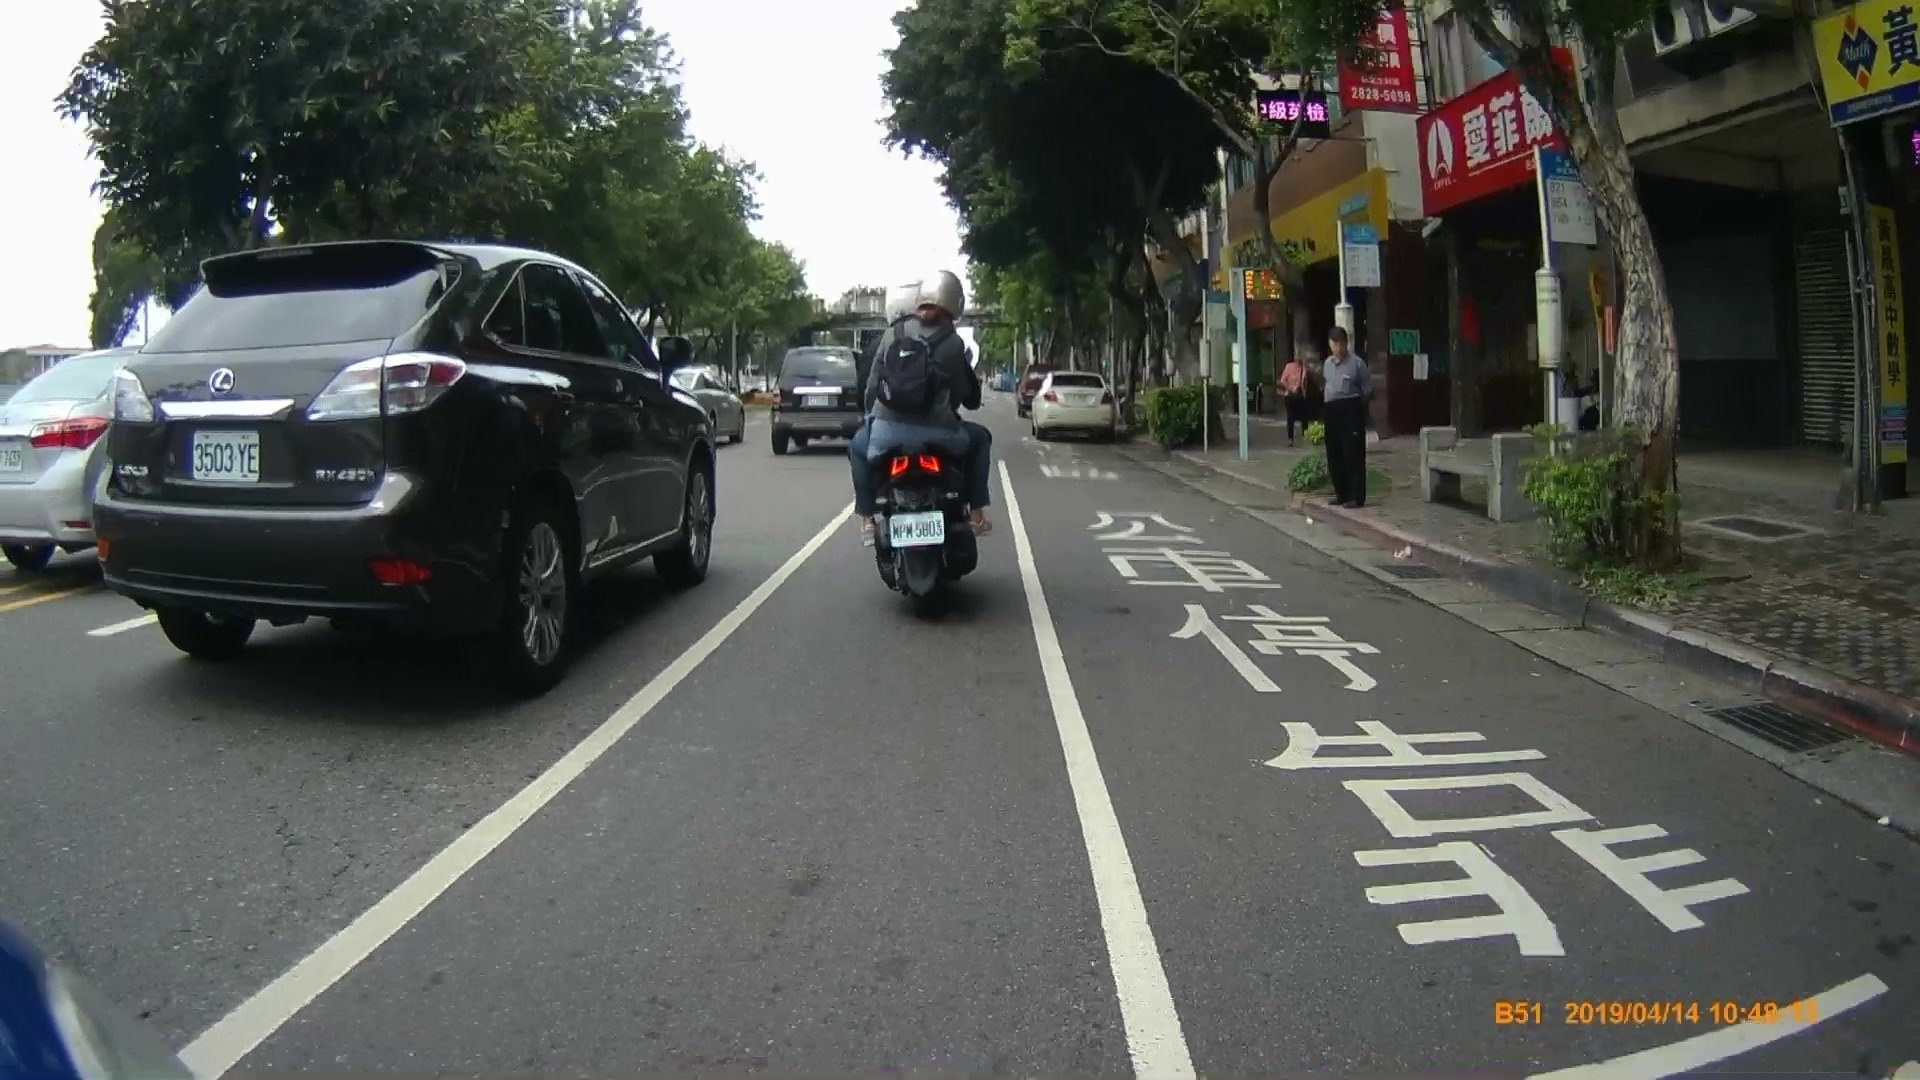License_plate: (193, 431, 262, 479), (889, 518, 948, 547)
